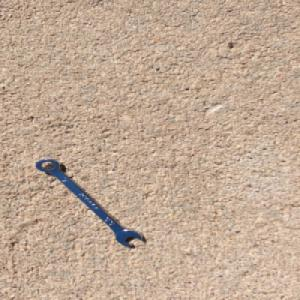Wrench: (34, 157, 147, 248)
